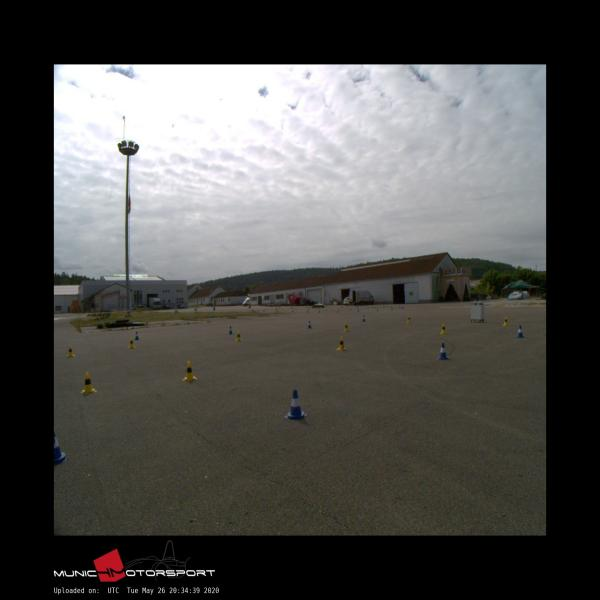blue_cone: (284, 389, 307, 420), (54, 429, 66, 465), (437, 342, 449, 359), (516, 325, 524, 337), (228, 326, 233, 334), (135, 331, 139, 340), (308, 321, 312, 328), (362, 315, 366, 322), (478, 299, 482, 305), (474, 299, 477, 305)
yellow_cone: (81, 372, 97, 393), (182, 361, 197, 381), (337, 336, 346, 351), (67, 344, 74, 356), (439, 323, 446, 334), (128, 337, 134, 348), (235, 331, 242, 340), (502, 316, 508, 326), (343, 322, 349, 331), (407, 315, 411, 323)
